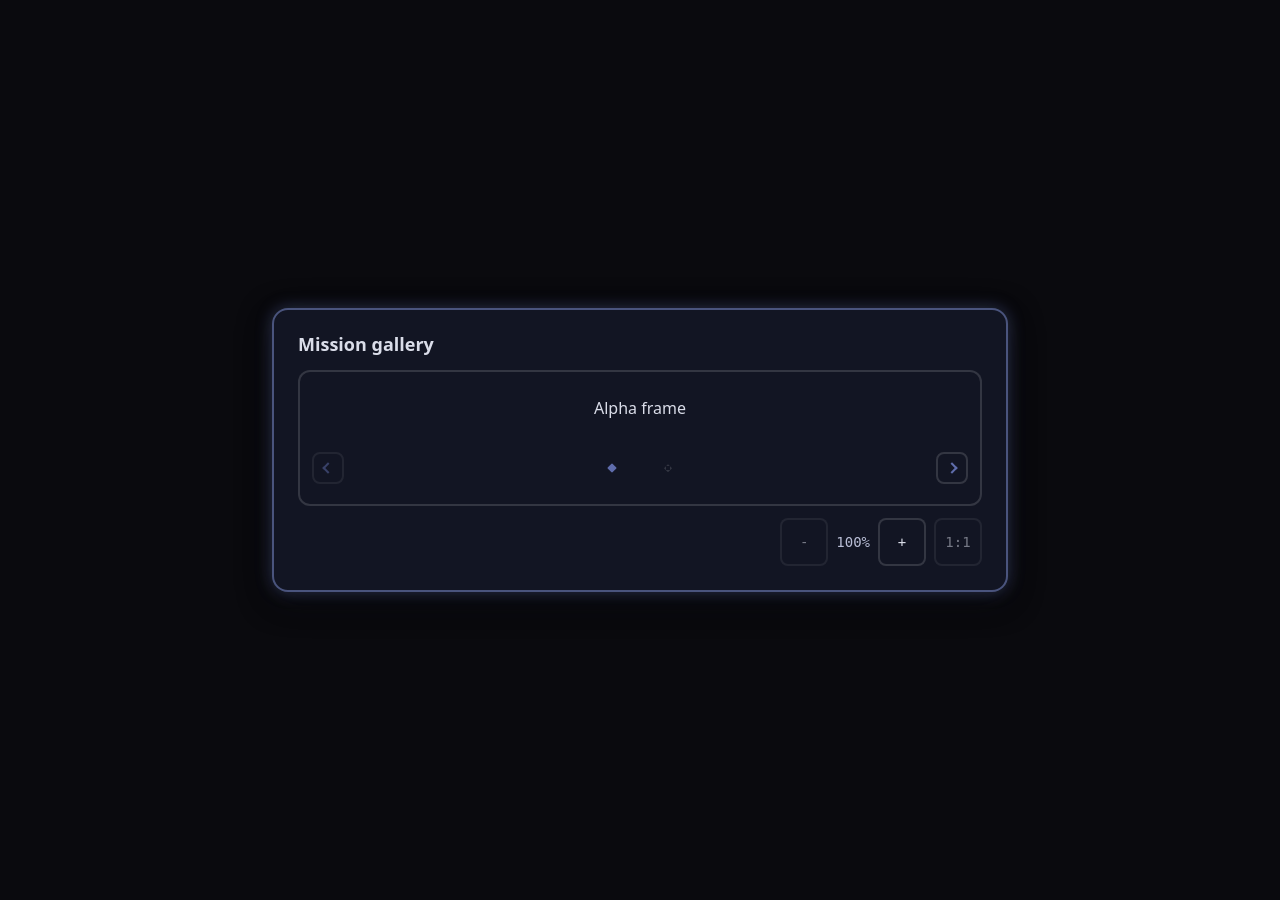
Lightbox › zooms through the toolbar and resets
Expected: the text "100%" is shown, [836, 532, 870, 553]
Expected: the button named "Zoom out" is disabled, [780, 518, 828, 566]
Step 1. Click the button named "Zoom in" → coordinates (902, 542), box [878, 518, 926, 566]
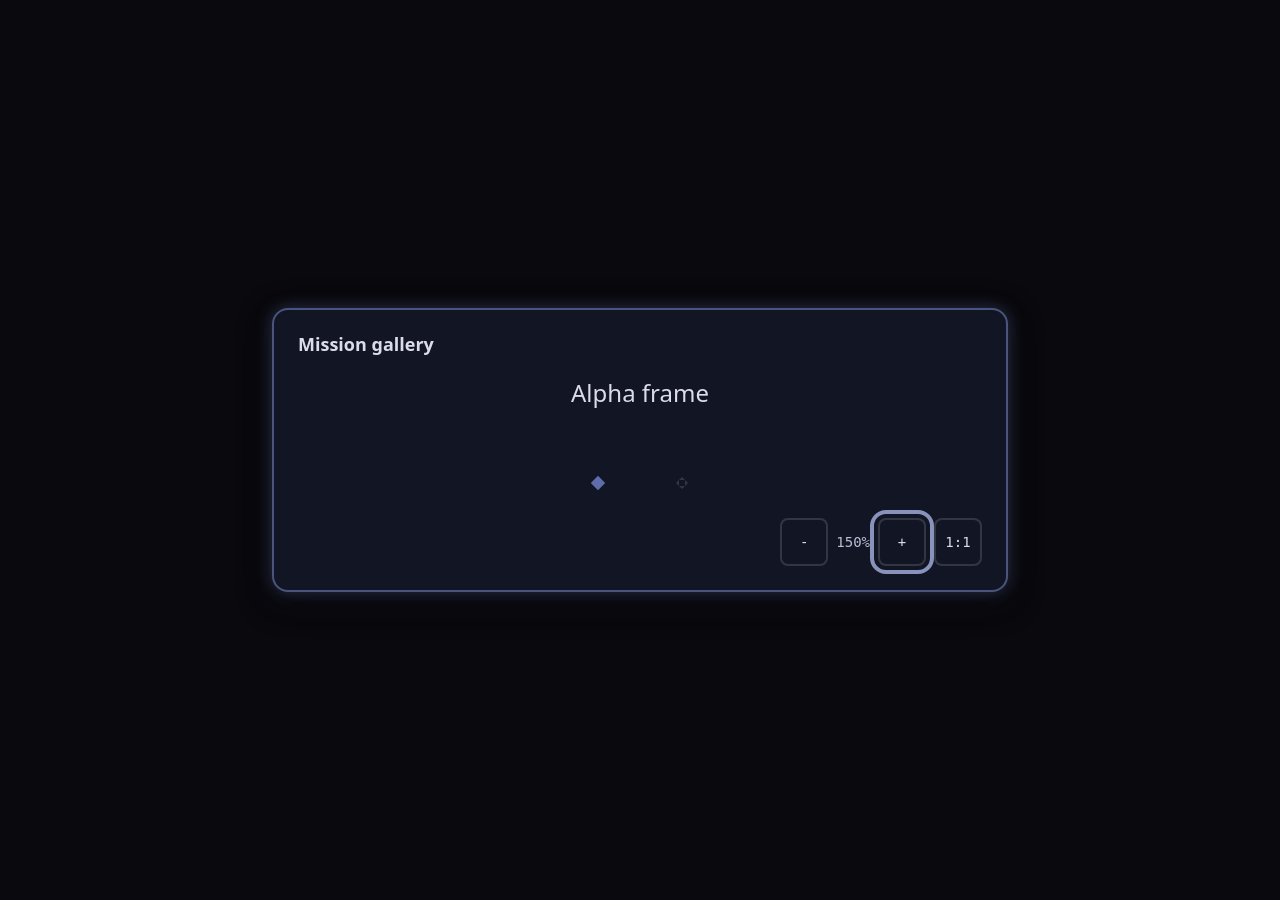
Expected: the button named "Zoom out" is enabled, [780, 518, 828, 566]
Result: the text "150%" is shown at [836, 532, 870, 553]
Step 2. Click the button named "Reset zoom" → coordinates (958, 542), box [934, 518, 982, 566]
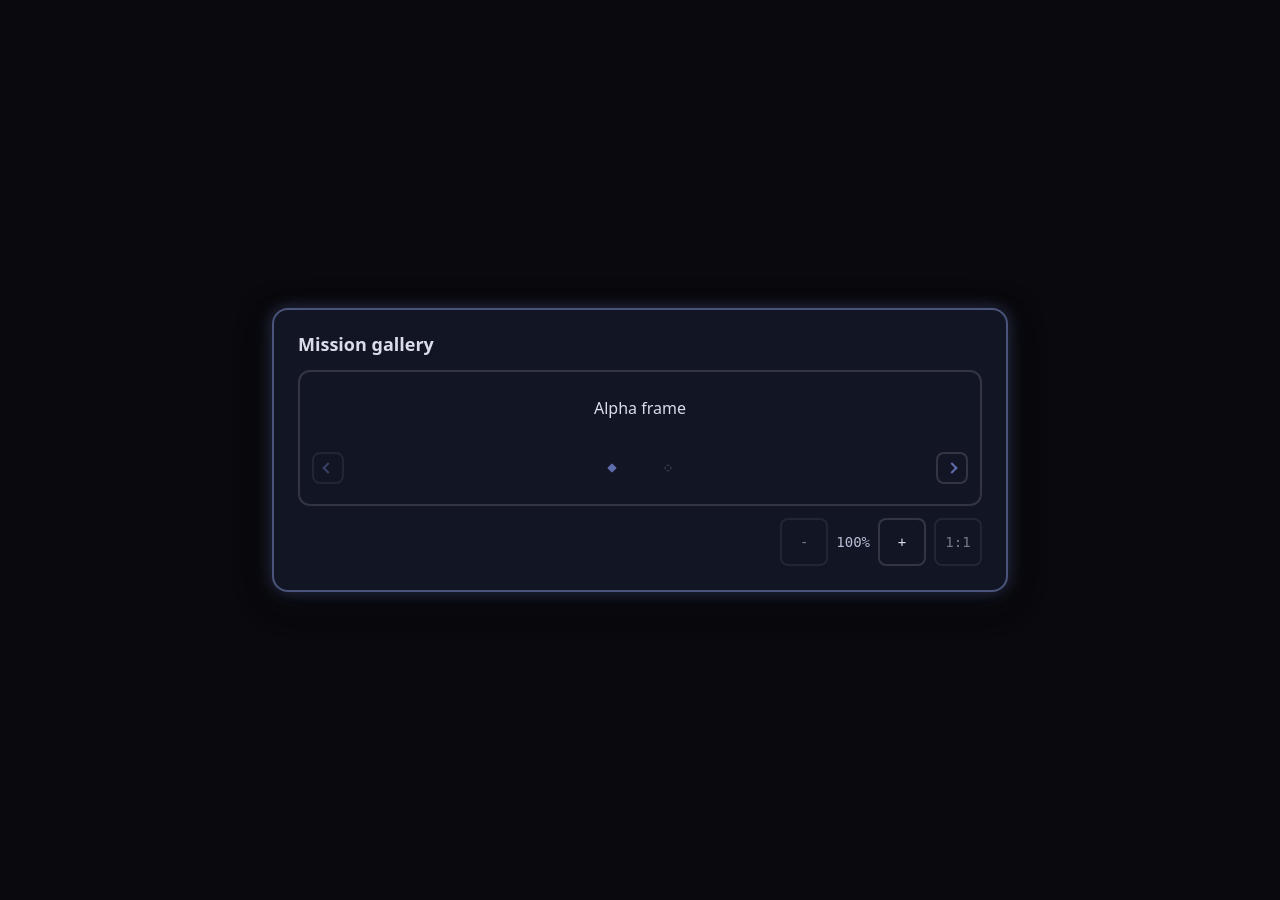
Result: the text "100%" is shown at [836, 532, 870, 553]
